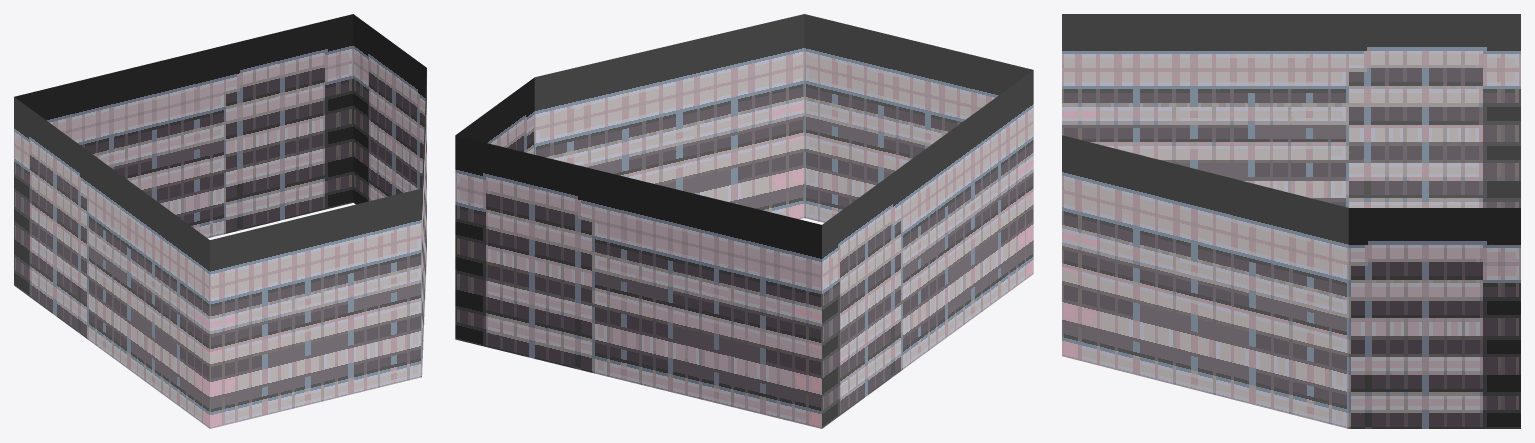
3 views of the same model, side by side, from view 1: azimuth 30°, elevation 25°; view 2: azimuth 150°, elevation 25°; view 3: azimuth 270°, elevation 25° (orthographic). The views are drawn at different scales.
Visible parts, largest first — view 1: obj-104; view 2: obj-104; view 3: obj-104.
Boxes of the visible parts, x1,y1,x2,y2 form: obj-104: [14, 14, 426, 428]; obj-104: [455, 14, 1033, 428]; obj-104: [1062, 14, 1520, 428].
Bounding box in the file's own units: 3.69 × 1.96 × 3.69.
Materials: 1 (1 with a texture image).
